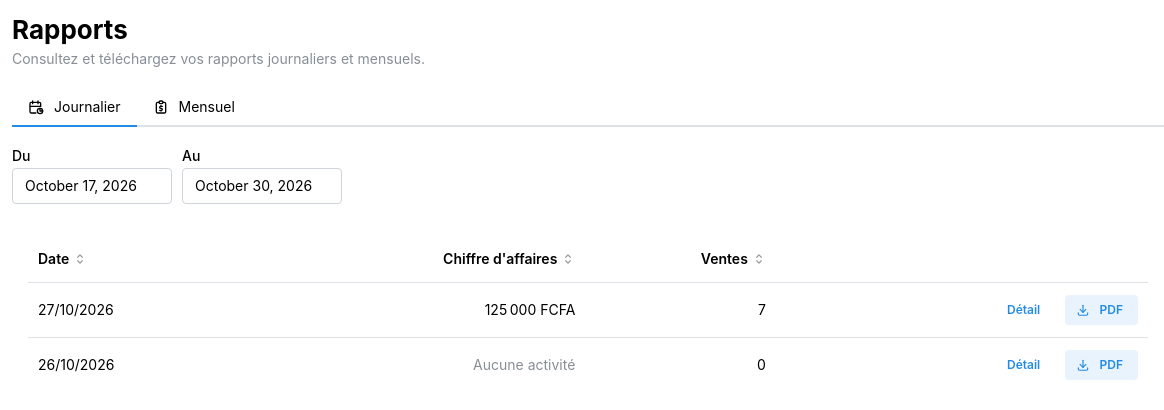
Test: ReportsPage › affiche un état vide pour le mois sélectionné quand aucune activité
The width and height of the screenshot is (1164, 410).
Click the tab "Mensuel": (194, 108) [136,89,251,127]
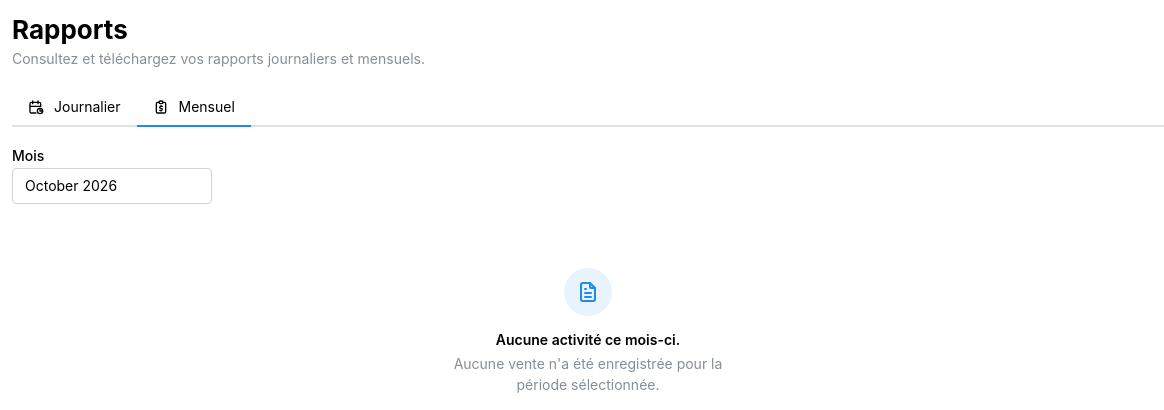
expect the text "Aucune activité ce mois-ci." is shown: met, box [496,330,680,350]
